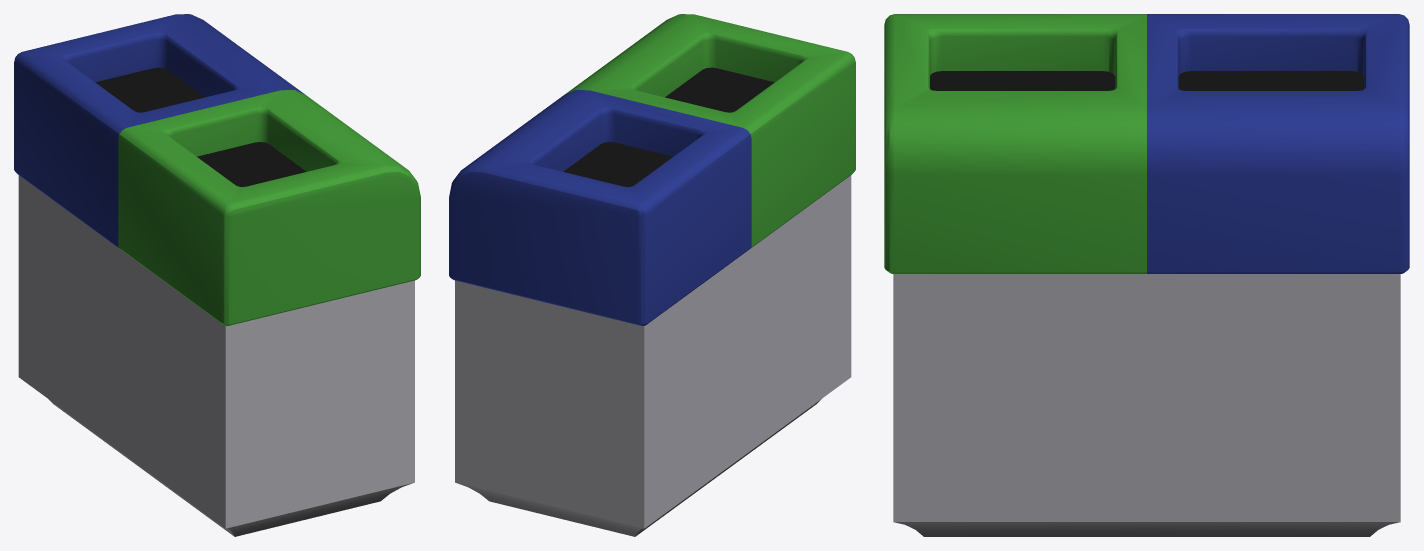
The model's file is 14_Trashcan_AIRPORT_0.obj.
The picture shows the model from 3 angles, left to right: view 1: azimuth 30°, elevation 25°; view 2: azimuth 150°, elevation 25°; view 3: azimuth 270°, elevation 25°; orthographic projection. The views are drawn at different scales.
Parts seen in each view (by area): view 1: 14.Trashcan_AIRPORT_0; view 2: 14.Trashcan_AIRPORT_0; view 3: 14.Trashcan_AIRPORT_0.
Part boxes in pixels (x1=…): 14.Trashcan_AIRPORT_0: x1=14, y1=14, x2=420, y2=536; 14.Trashcan_AIRPORT_0: x1=449, y1=14, x2=855, y2=536; 14.Trashcan_AIRPORT_0: x1=884, y1=14, x2=1409, y2=536.
Size of the model in its own units: 0.4224 by 0.7047 by 0.7902.
1 material, 1 textured.
